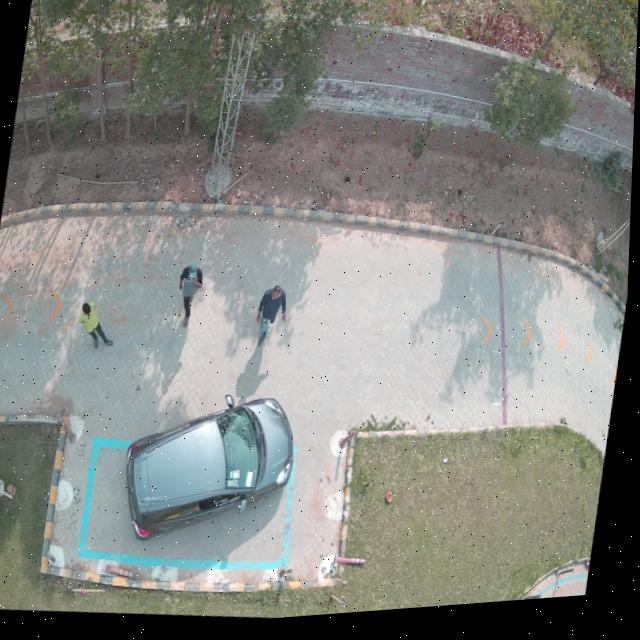car: (130, 400, 297, 542)
